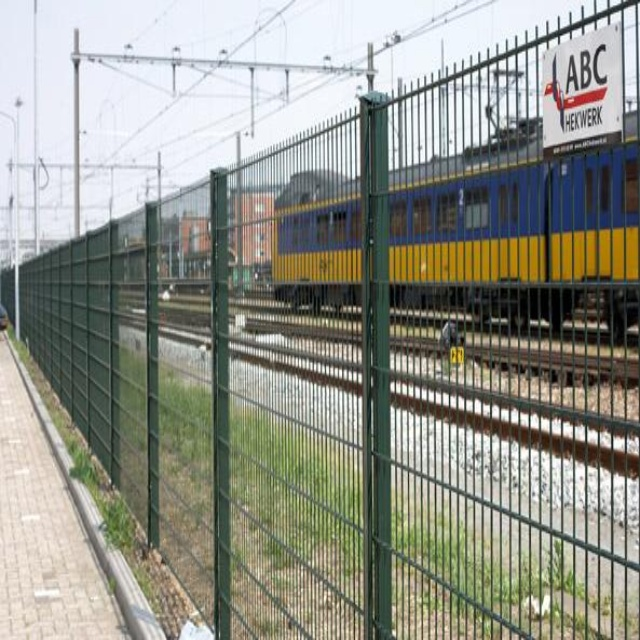obstacle: (55, 260, 615, 462)
